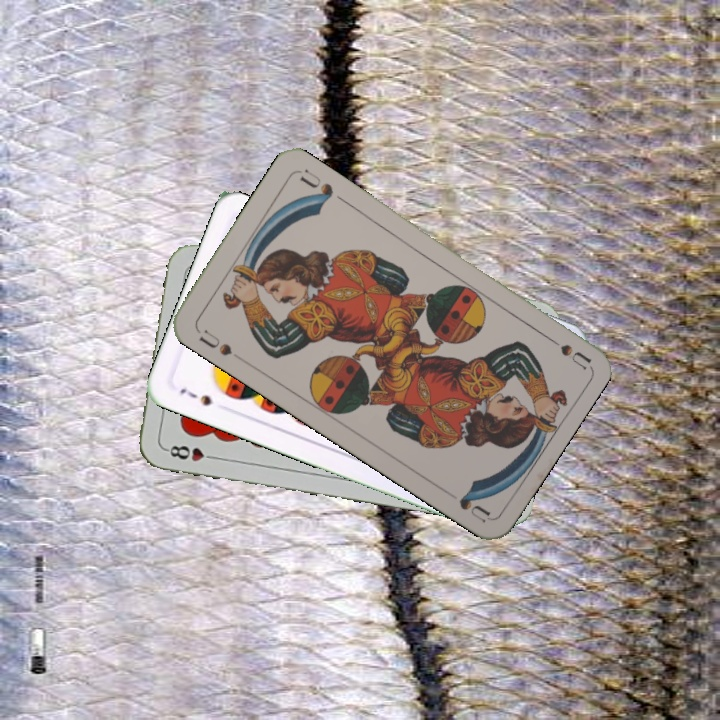H8: (161, 441, 220, 464)
S7: (176, 384, 214, 409)
SU: (537, 328, 591, 371), (193, 325, 235, 359)
